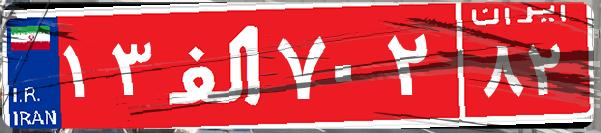0: (330, 28, 385, 110)
1: (57, 26, 110, 107)
2: (385, 28, 445, 110), (525, 38, 570, 115)
3: (110, 28, 158, 105)
7: (273, 28, 330, 110)
8: (475, 38, 525, 113)
الف: (158, 15, 273, 115)
